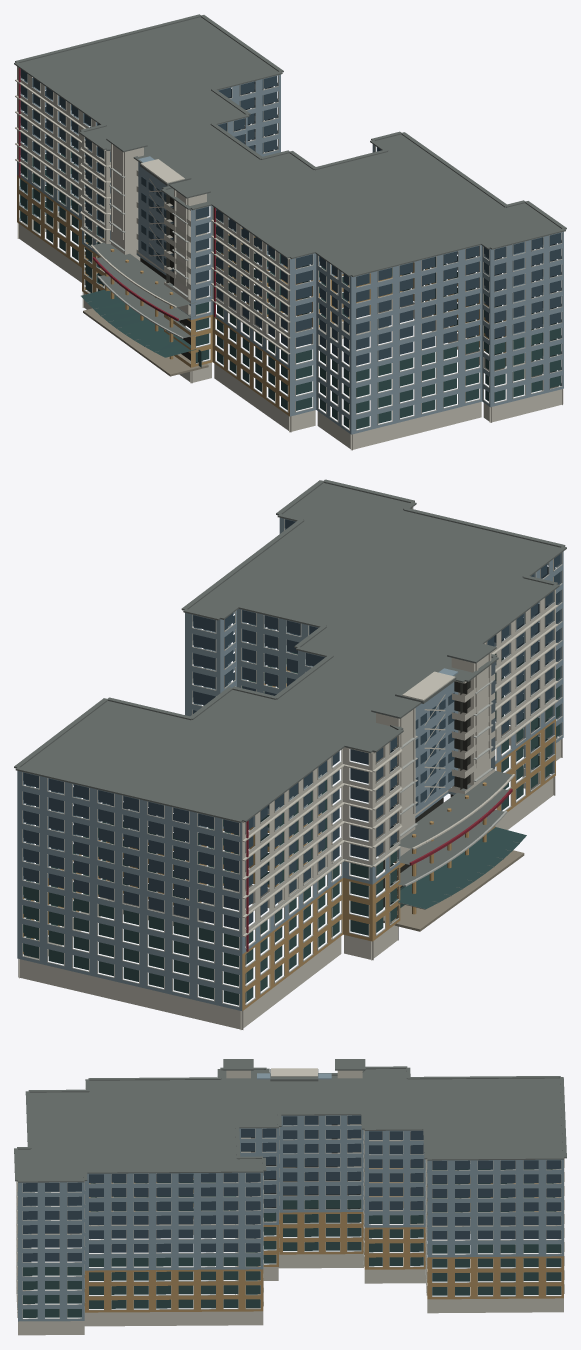
The model's file is mjiit_lod1.glb.
3 renders of one model, top to bottom at view 1: azimuth 30°, elevation 25°; view 2: azimuth 150°, elevation 25°; view 3: azimuth 270°, elevation 25°, orthographic. The views are drawn at different scales.
Parts seen in each view (by area): view 1: DarkMetal, BluePlaster, Ivory, GlassBlue, GlassGreen, Ochre, Silver, Paving, Wine, Shadow; view 2: DarkMetal, Ivory, BluePlaster, GlassBlue, GlassGreen, Ochre, Silver, Paving, Shadow, Wine; view 3: DarkMetal, BluePlaster, GlassBlue, GlassGreen, Ivory, Ochre, Silver, Shadow.
Boxes of the visible parts, box(x1,y1,x2,y2) form: DarkMetal: box(14, 14, 566, 352); BluePlaster: box(17, 74, 563, 434); Ivory: box(15, 66, 563, 450); GlassBlue: box(20, 69, 560, 365); GlassGreen: box(20, 147, 560, 429); Ochre: box(17, 175, 505, 416); Silver: box(19, 79, 562, 430); Paving: box(83, 308, 208, 376); Wine: box(18, 68, 215, 320); Shadow: box(140, 194, 190, 360); DarkMetal: box(14, 479, 566, 909); Ivory: box(18, 507, 562, 1029); BluePlaster: box(17, 507, 563, 1010); GlassBlue: box(23, 519, 560, 929); GlassGreen: box(23, 652, 560, 1005); Ochre: box(23, 666, 555, 1010); Silver: box(22, 564, 562, 1007); Paving: box(383, 850, 524, 931); Shadow: box(383, 680, 470, 907); Wine: box(246, 788, 512, 951); DarkMetal: box(14, 1059, 566, 1210); BluePlaster: box(17, 1073, 563, 1321); GlassBlue: box(23, 1115, 561, 1261); GlassGreen: box(23, 1167, 561, 1317); Ivory: box(16, 1068, 564, 1335); Ochre: box(84, 1167, 563, 1312); Silver: box(16, 1125, 561, 1319); Shadow: box(251, 1124, 359, 1209).
Size of the model in its own units: 63.43 by 38.37 by 117.
